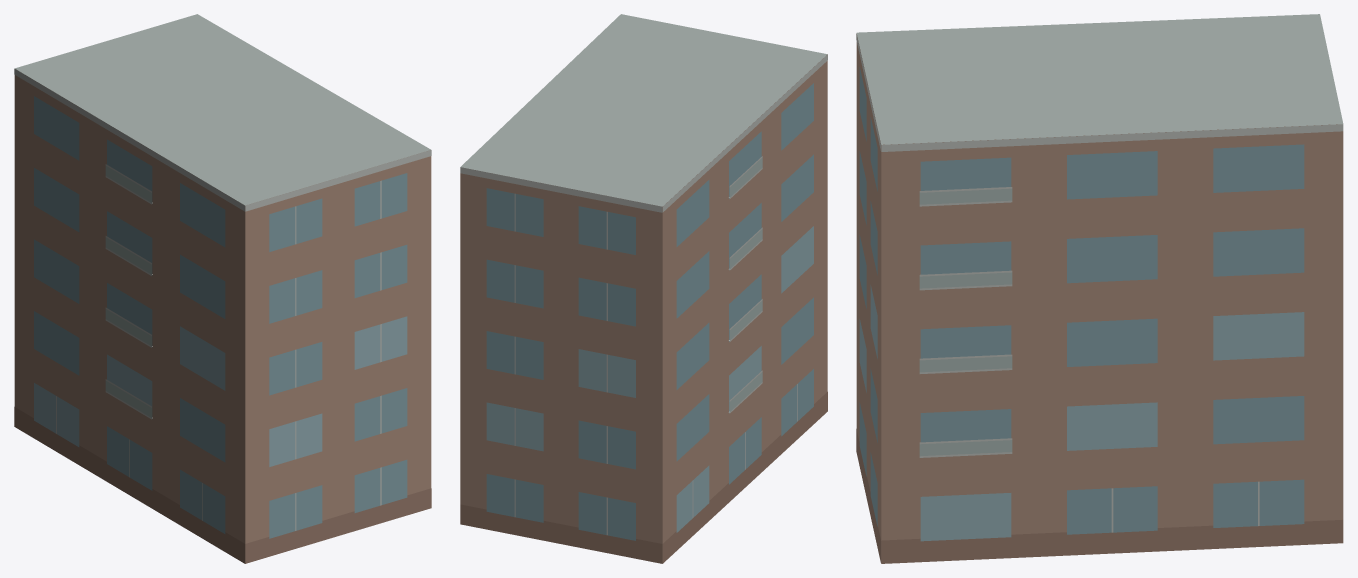
File: survey-upis-32702332.glb
The picture shows the model from 3 angles, left to right: view 1: azimuth 30°, elevation 25°; view 2: azimuth 150°, elevation 25°; view 3: azimuth 270°, elevation 25°; orthographic projection. The views are drawn at different scales.
Parts seen in each view (by area): view 1: survey-upis-32702332.tmp; view 2: survey-upis-32702332.tmp; view 3: survey-upis-32702332.tmp.
Part boxes in pixels (box(x1,y1,x2,y2)): survey-upis-32702332.tmp: box(14, 14, 431, 563); survey-upis-32702332.tmp: box(460, 14, 827, 563); survey-upis-32702332.tmp: box(856, 14, 1343, 563).
Bounding box in the file's own units: 9.45 × 14.1 × 14.86.
